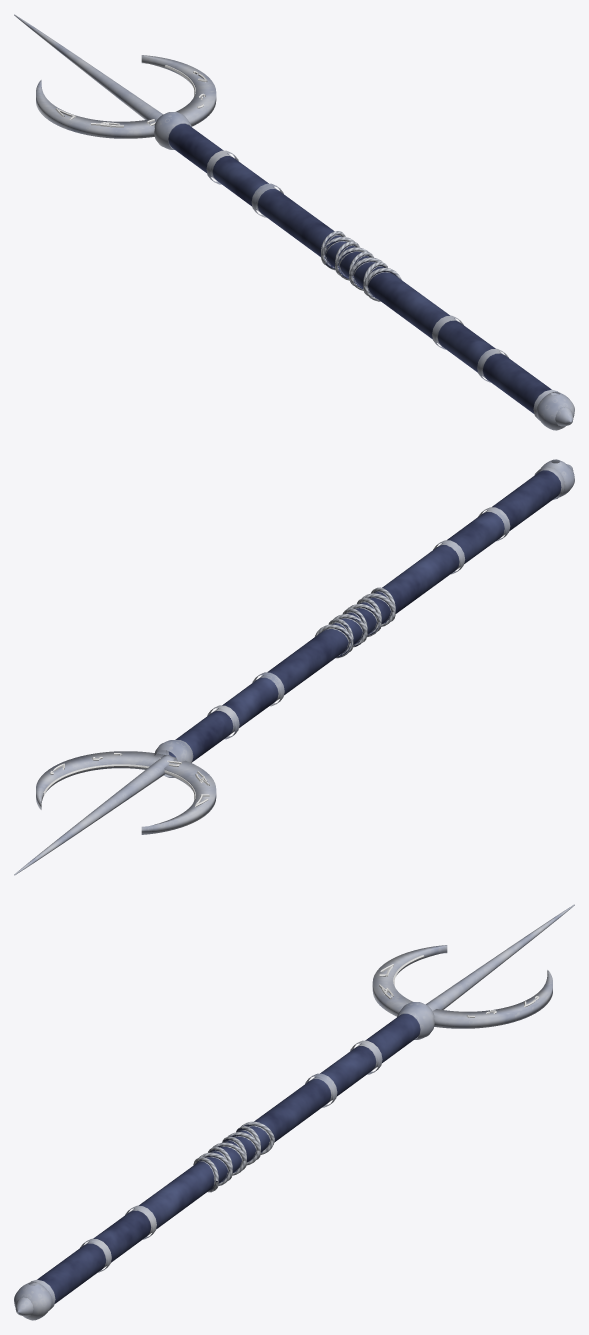
File: Spear4.fbx
The picture shows the model from 3 angles, top to bottom: view 1: azimuth 30°, elevation 25°; view 2: azimuth 150°, elevation 25°; view 3: azimuth 330°, elevation 25°; orthographic projection.
Parts seen in each view (by area): view 1: Spear4_Body, Spear4_Glow_14d296; view 2: Spear4_Body, Spear4_Glow_14d296; view 3: Spear4_Body.
Boxes of the visible parts, x1,y1,x2,y2 form: Spear4_Body: [14, 14, 574, 430]; Spear4_Glow_14d296: [55, 65, 207, 127]; Spear4_Body: [14, 459, 574, 875]; Spear4_Glow_14d296: [43, 753, 209, 806]; Spear4_Body: [14, 904, 574, 1320].
Bounding box in the file's own units: 1.6 × 0.34 × 9.88.
2 materials, 1 textured.
